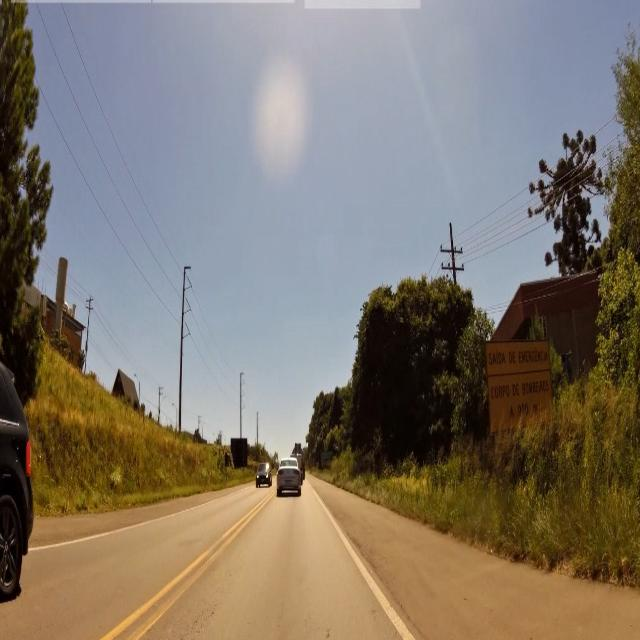ESP-20: (484, 338, 554, 426)
